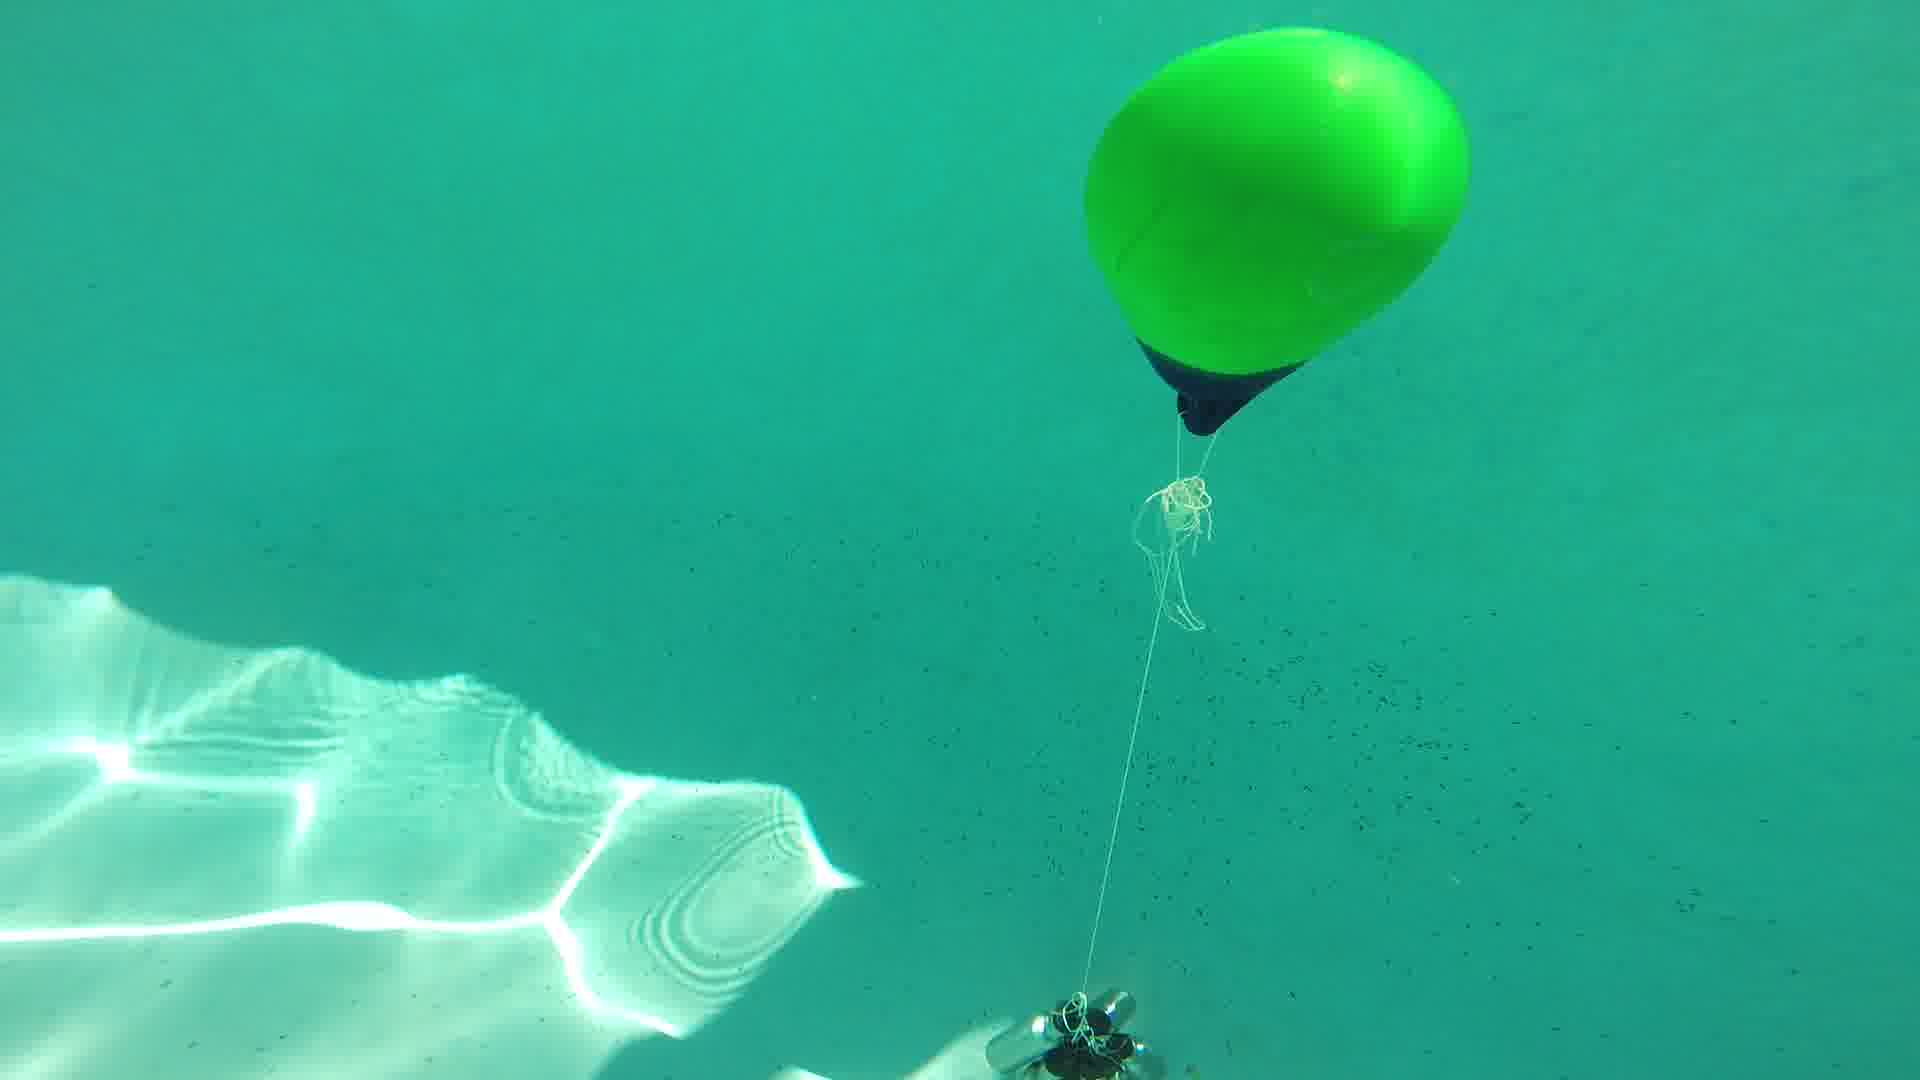yellow_buoy: (1081, 26, 1472, 438)
